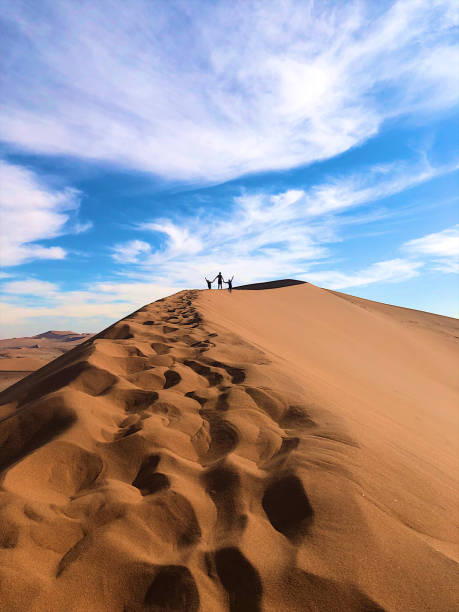human_foot_print: (11, 287, 311, 611)
